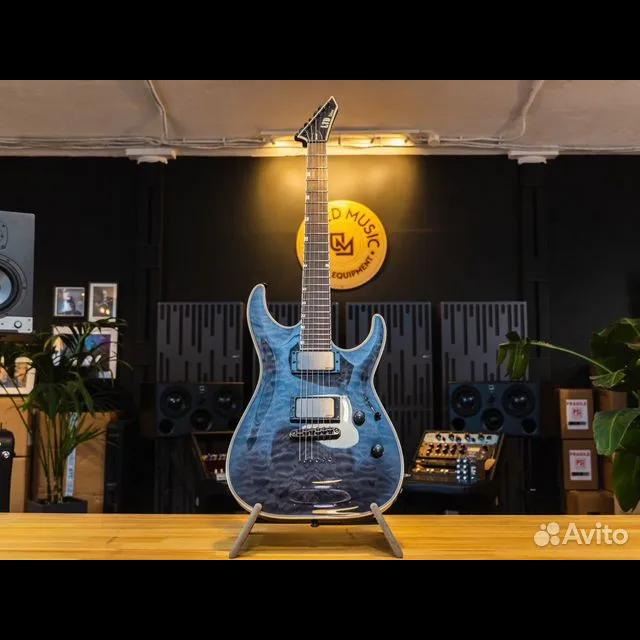Electric-Guitar: (227, 96, 403, 522)
